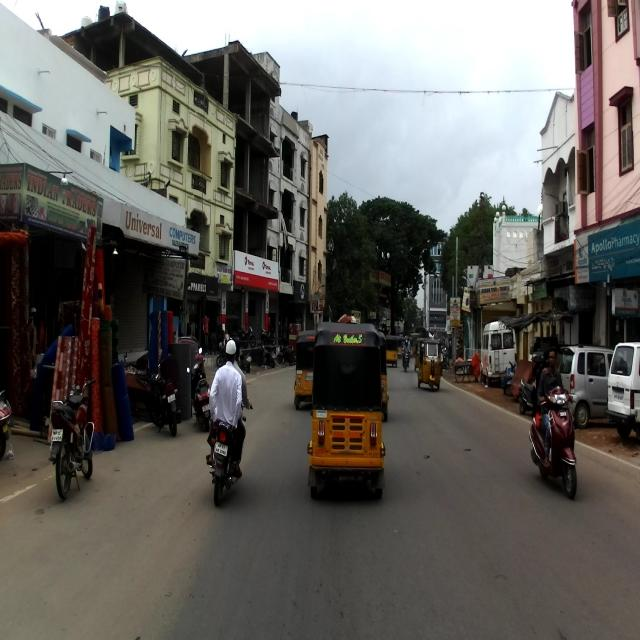autorickshaw: (306, 321, 386, 500)
motorcycle_Hero: (205, 392, 253, 504), (144, 352, 180, 439)
motorcycle_Yamaha: (48, 374, 100, 499)
scooter: (528, 385, 578, 500), (186, 346, 212, 432)
